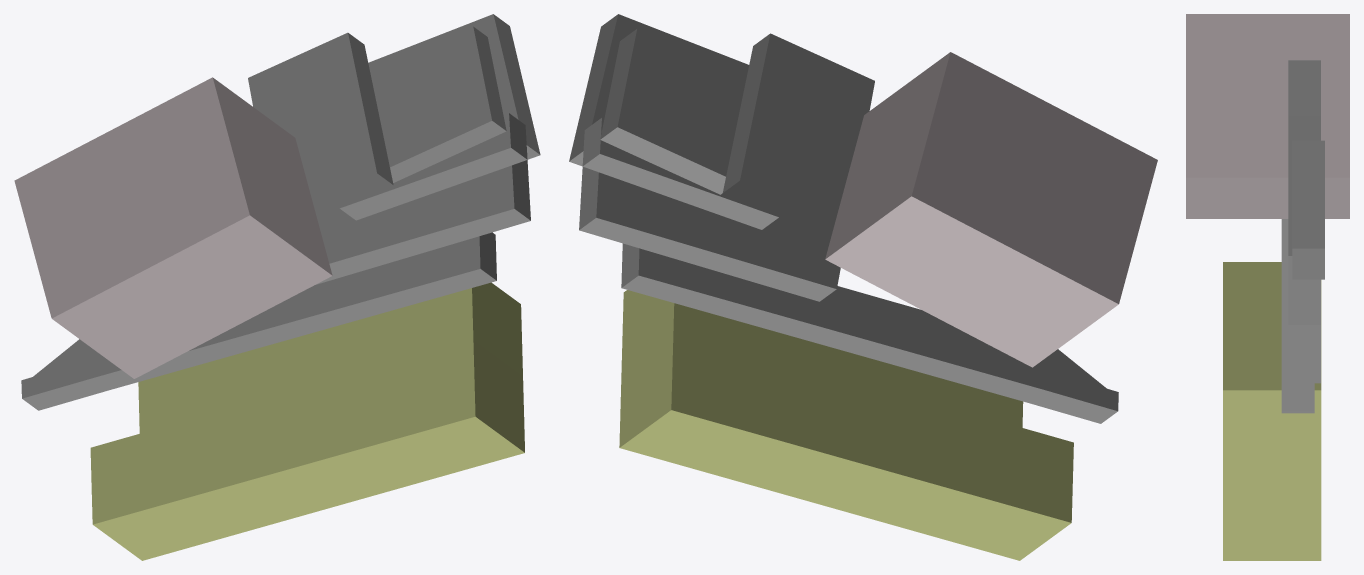
The picture shows the model from 3 angles, left to right: view 1: azimuth 30°, elevation 25°; view 2: azimuth 150°, elevation 25°; view 3: azimuth 270°, elevation 25°; orthographic projection. The views are drawn at different scales.
Parts seen in each view (by area): view 1: 0_2_1_3_3_3_3_2_1; view 2: 0_2_1_3_3_3_3_2_1; view 3: 0_2_1_3_3_3_3_2_1.
Boxes of the visible parts, box(x1,y1,x2,y2) form: 0_2_1_3_3_3_3_2_1: box(14, 14, 540, 560); 0_2_1_3_3_3_3_2_1: box(569, 14, 1157, 560); 0_2_1_3_3_3_3_2_1: box(1186, 14, 1349, 560).
Bounding box in the file's own units: 52.98 × 43.03 × 15.
